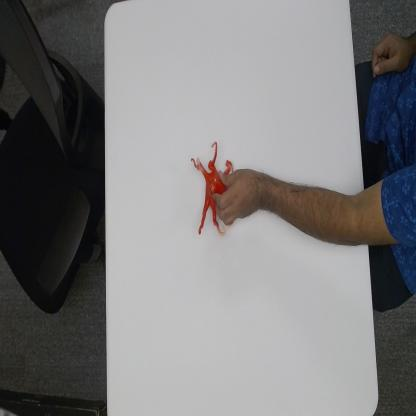Arm: (260, 167, 414, 251)
Hand: (214, 166, 260, 228)
Octopus: (190, 138, 235, 236)
